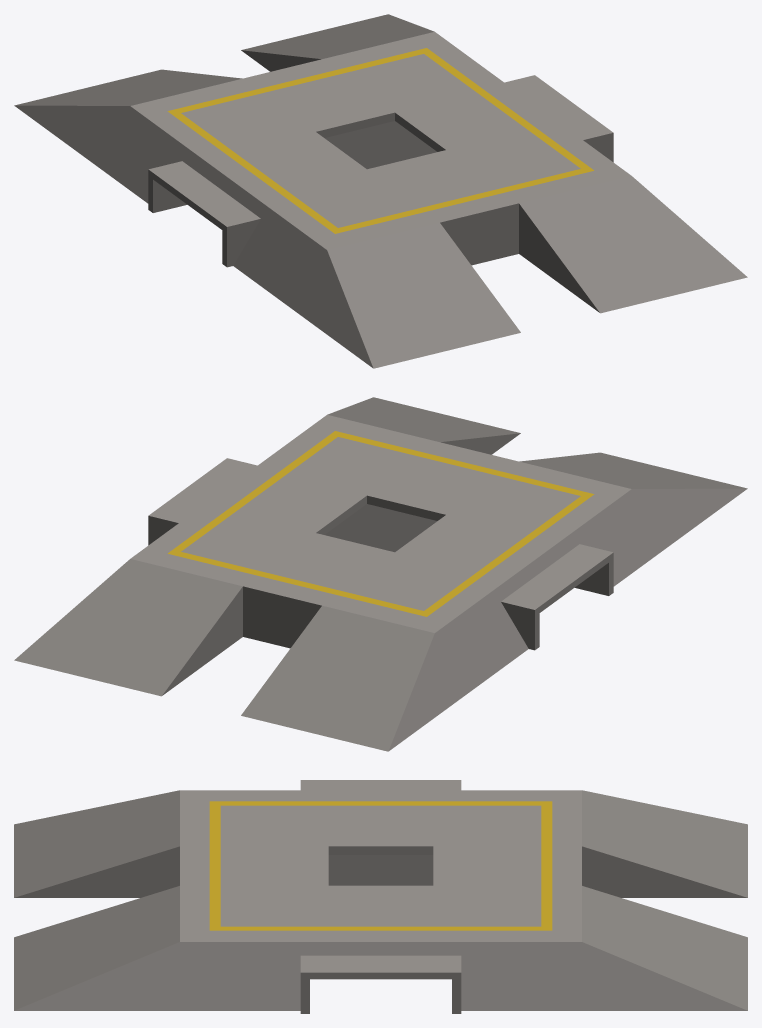
File: SM_Env_LaunchGround_01.fbx
The picture shows the model from 3 angles, top to bottom: view 1: azimuth 30°, elevation 25°; view 2: azimuth 150°, elevation 25°; view 3: azimuth 270°, elevation 25°; orthographic projection. The views are drawn at different scales.
Parts seen in each view (by area): view 1: SM_Env_LaunchGround_01; view 2: SM_Env_LaunchGround_01; view 3: SM_Env_LaunchGround_01.
Boxes of the visible parts, bbox=[...] form: SM_Env_LaunchGround_01: bbox=[14, 14, 747, 368]; SM_Env_LaunchGround_01: bbox=[14, 397, 747, 751]; SM_Env_LaunchGround_01: bbox=[14, 780, 747, 1013].
Size of the model in its own units: 29.02 by 3.63 by 46.77.
